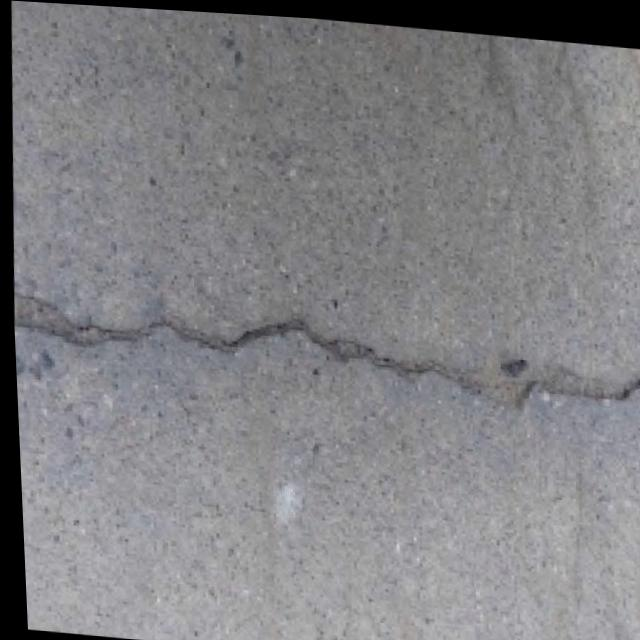Crack: (9, 251, 640, 441)
